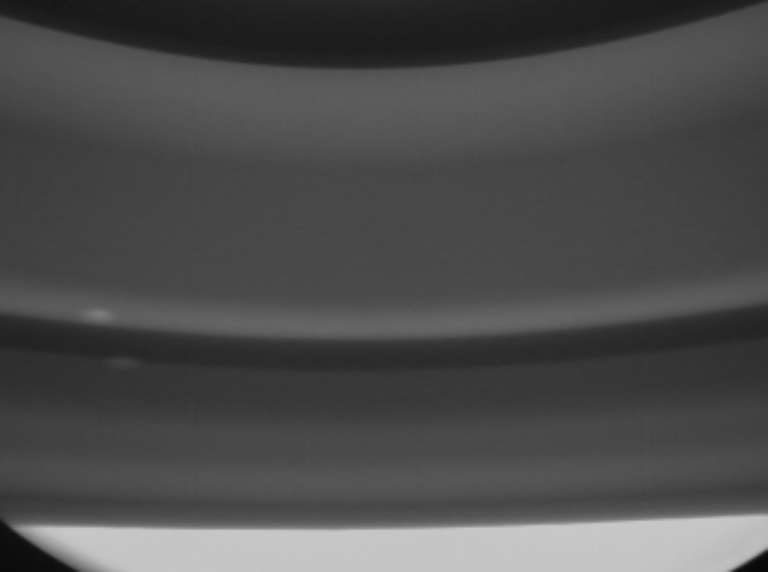defect: (102, 351, 144, 378)
